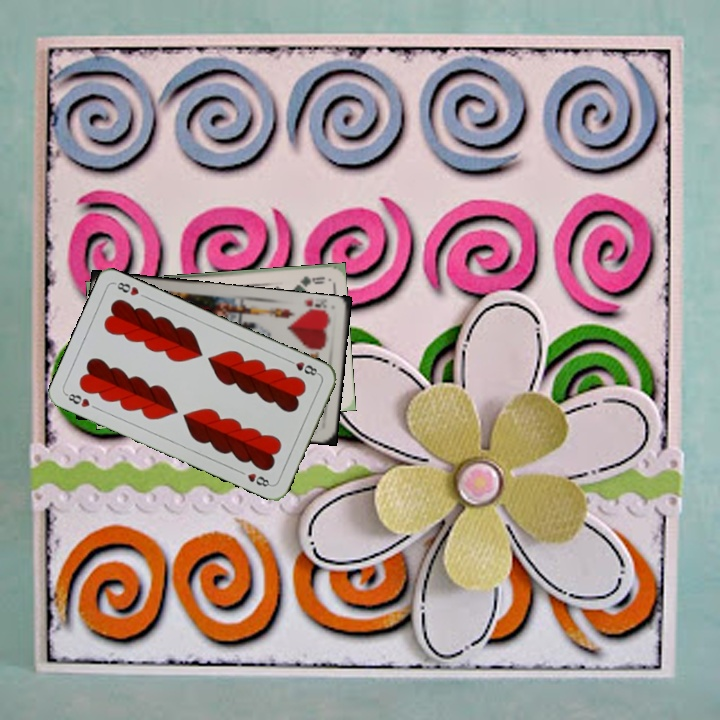G9: (290, 272, 327, 289)
H8: (283, 356, 322, 378), (62, 389, 92, 410)
HK: (297, 298, 331, 318)
